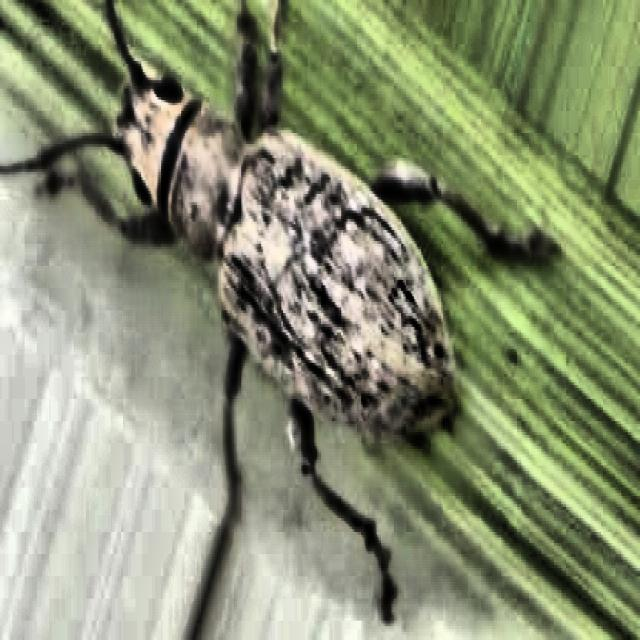Stink bug: (44, 35, 465, 550)
